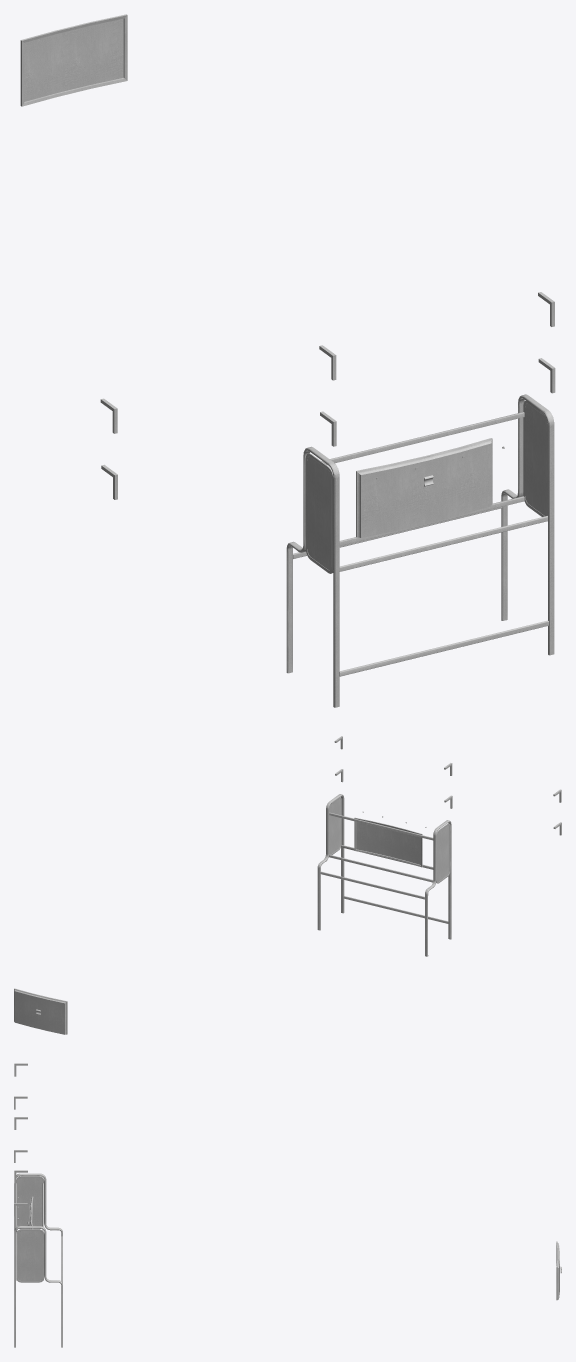
Rendered from Fredde.obj.
3 renders of one model, top to bottom at view 1: azimuth 30°, elevation 25°; view 2: azimuth 150°, elevation 25°; view 3: azimuth 270°, elevation 25°, orthographic. The views are drawn at different scales.
Bounding box in the file's own units: 3.52 × 2.14 × 6.02.
Materials: 1 (1 with a texture image).
